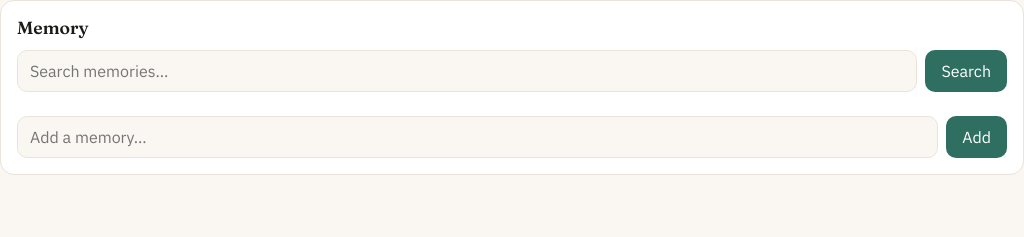
searching renders result rows
In the field labelled "Search": (467, 71) [17,50,917,92], type "apple"
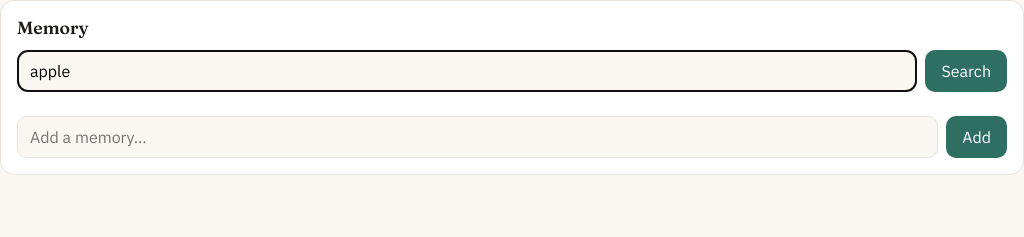
Click the button "Search": (966, 71) [925,50,1007,92]
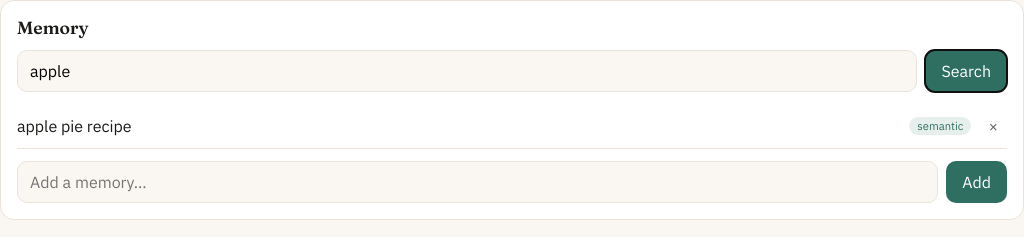
Now the text "apple pie recipe" is shown, box [17,116,132,136]
